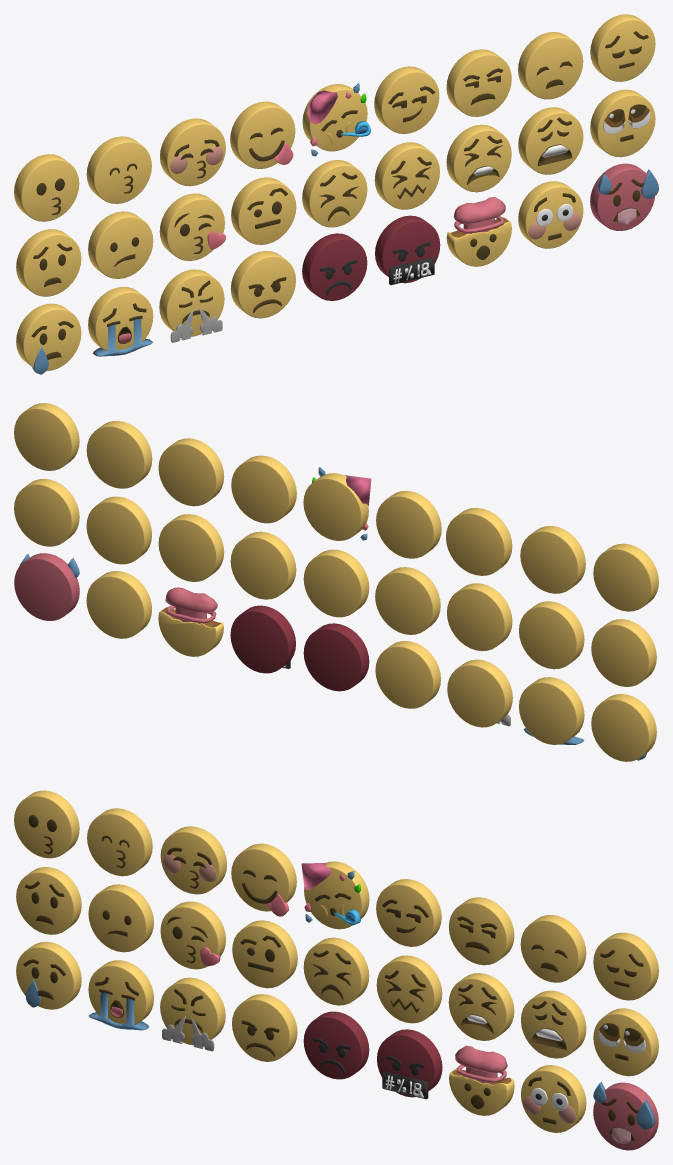
The model's file is free_social_smileyemoji_pack_2.glb.
The picture shows the model from 3 angles, top to bottom: view 1: azimuth 30°, elevation 25°; view 2: azimuth 150°, elevation 25°; view 3: azimuth 330°, elevation 25°; orthographic projection.
Visible parts, largest first — view 1: Cylinder.195, Cylinder.040, Cylinder.199, Cylinder.198, Cylinder.211, Cylinder.204, Cylinder.042, Cylinder.033, Cylinder.039, Cylinder.196, Cylinder.194, Cylinder.038 (+15 smaller); view 2: Cylinder.199, Cylinder.211, Cylinder.040, Cylinder.195, Cylinder.033, Cylinder.204, Cylinder.039, Cylinder.200, Cylinder.202, Cylinder.206, Cylinder.203, Cylinder.038 (+15 smaller); view 3: Cylinder.199, Cylinder.195, Cylinder.040, Cylinder.198, Cylinder.211, Cylinder.204, Cylinder.033, Cylinder.039, Cylinder.042, Cylinder.196, Cylinder.201, Cylinder.212 (+15 smaller).
Boxes of the visible parts, left/top/right/bottom form: Cylinder.195: left=159, top=269, right=224, bottom=342; Cylinder.040: left=88, top=286, right=153, bottom=356; Cylinder.199: left=302, top=83, right=371, bottom=156; Cylinder.198: left=230, top=101, right=295, bottom=168; Cylinder.211: left=590, top=163, right=658, bottom=230; Cylinder.204: left=375, top=215, right=440, bottom=285; Cylinder.042: left=159, top=193, right=225, bottom=260; Cylinder.033: left=160, top=118, right=225, bottom=186; Cylinder.039: left=16, top=303, right=81, bottom=374; Cylinder.196: left=214, top=250, right=295, bottom=332; Cylinder.194: left=590, top=14, right=655, bottom=81; Cylinder.038: left=16, top=229, right=81, bottom=296; Cylinder.199: left=303, top=467, right=371, bottom=540; Cylinder.211: left=14, top=553, right=79, bottom=620; Cylinder.040: left=519, top=677, right=584, bottom=744; Cylinder.195: left=447, top=659, right=512, bottom=727; Cylinder.033: left=446, top=507, right=512, bottom=575; Cylinder.204: left=230, top=605, right=295, bottom=673; Cylinder.039: left=591, top=694, right=656, bottom=761; Cylinder.200: left=303, top=549, right=369, bottom=617; Cylinder.202: left=231, top=455, right=296, bottom=523; Cylinder.206: left=158, top=514, right=224, bottom=581; Cylinder.203: left=230, top=531, right=296, bottom=599; Cylinder.038: left=591, top=619, right=656, bottom=686; Cylinder.199: left=301, top=861, right=369, bottom=929; Cylinder.195: left=160, top=977, right=225, bottom=1050; Cylinder.040: left=88, top=960, right=153, bottom=1030; Cylinder.198: left=231, top=843, right=296, bottom=916; Cylinder.211: left=593, top=1082, right=658, bottom=1150; Cylinder.204: left=377, top=1029, right=442, bottom=1099; Cylinder.033: left=160, top=826, right=226, bottom=894; Cylinder.039: left=16, top=941, right=81, bottom=1009; Cylinder.042: left=160, top=901, right=225, bottom=969; Cylinder.196: left=205, top=994, right=297, bottom=1061; Cylinder.201: left=303, top=1011, right=369, bottom=1079; Cylinder.212: left=593, top=1008, right=658, bottom=1076.
Bounding box in the file's own units: 950 × 304 × 40.64.
